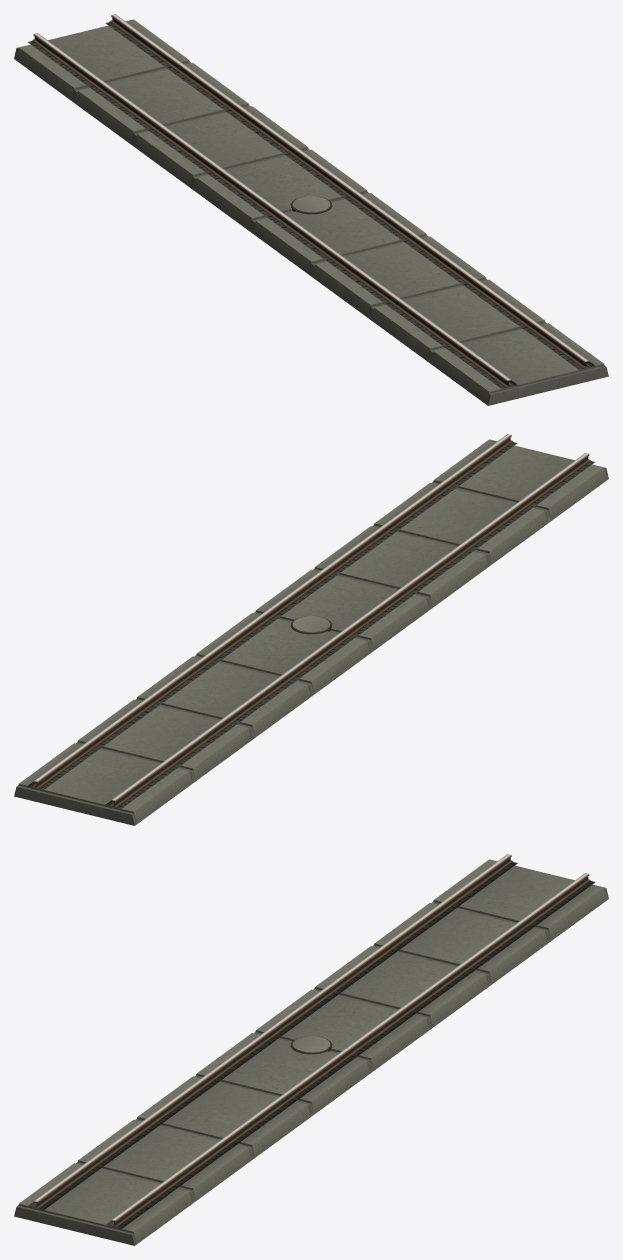
The model's file is 1RAIL_50_KONKURI.glb.
3 renders of one model, top to bottom at view 1: azimuth 30°, elevation 25°; view 2: azimuth 150°, elevation 25°; view 3: azimuth 330°, elevation 25°, orthographic.
Visible parts, largest first — view 1: obj6; view 2: obj6; view 3: obj6.
Part boxes in pixels (<box>): obj6: <box>14,14,608,405</box>; obj6: <box>14,434,608,825</box>; obj6: <box>14,854,608,1245</box>.
Bounding box in the file's own units: 7.36 × 1.19 × 50.
Materials: 3 (2 with a texture image).
